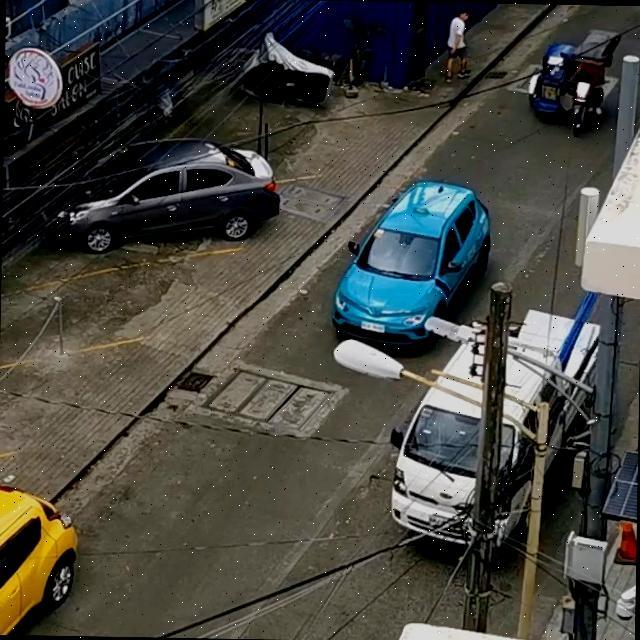Tricycle: (514, 19, 640, 147)
